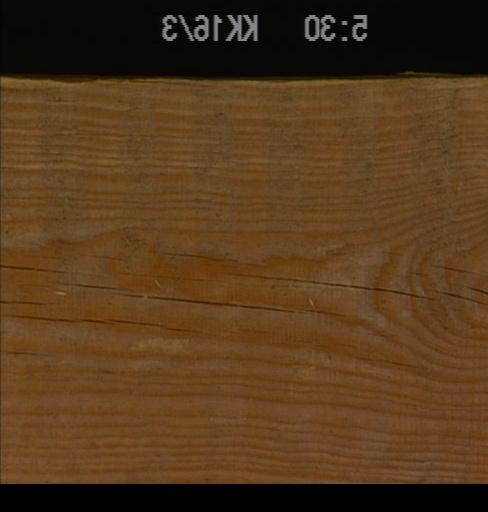split: (230, 268, 436, 300), (112, 290, 296, 312), (108, 315, 198, 335), (123, 270, 224, 285), (427, 285, 486, 310), (148, 246, 236, 262), (0, 311, 111, 323), (125, 77, 213, 88), (0, 262, 64, 272), (435, 261, 480, 274), (58, 281, 135, 288), (75, 252, 130, 261), (3, 349, 59, 355), (0, 298, 55, 304)
